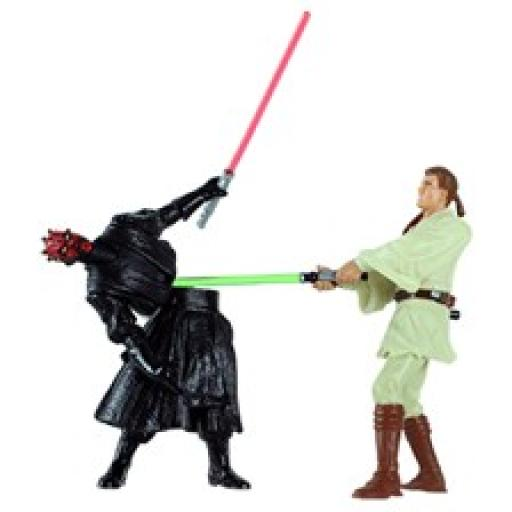human: (27, 171, 265, 499), (298, 162, 466, 504)
lightsaber: (160, 262, 379, 296)
sith saber: (195, 6, 311, 240)
